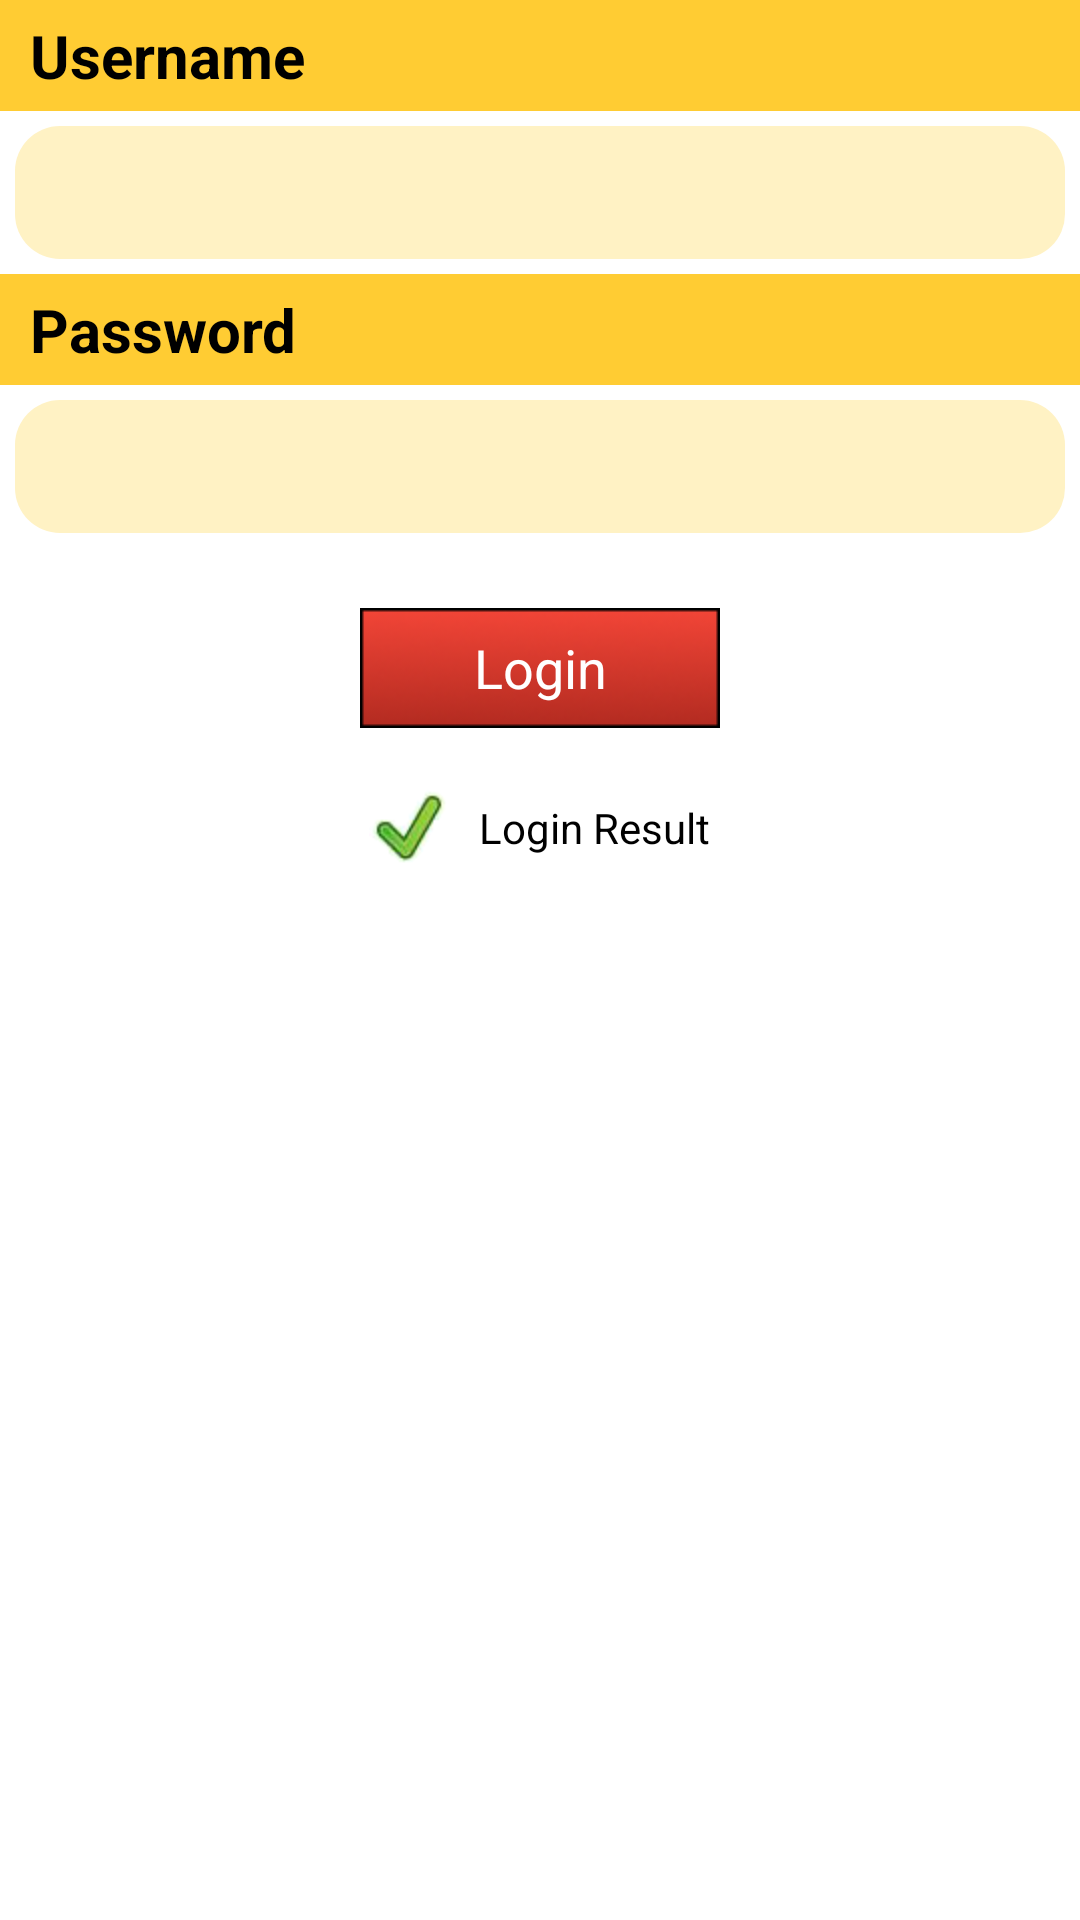

Where to tap for icons on this 1080w x 1920h app screen, as (x,y):
checkmark: (409,827)
